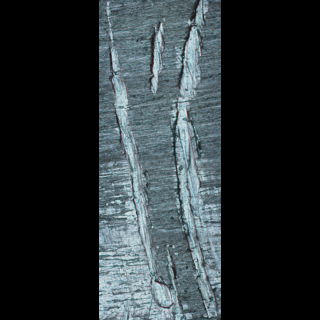d: (100, 1, 191, 319), (170, 0, 220, 319), (145, 19, 168, 98)
